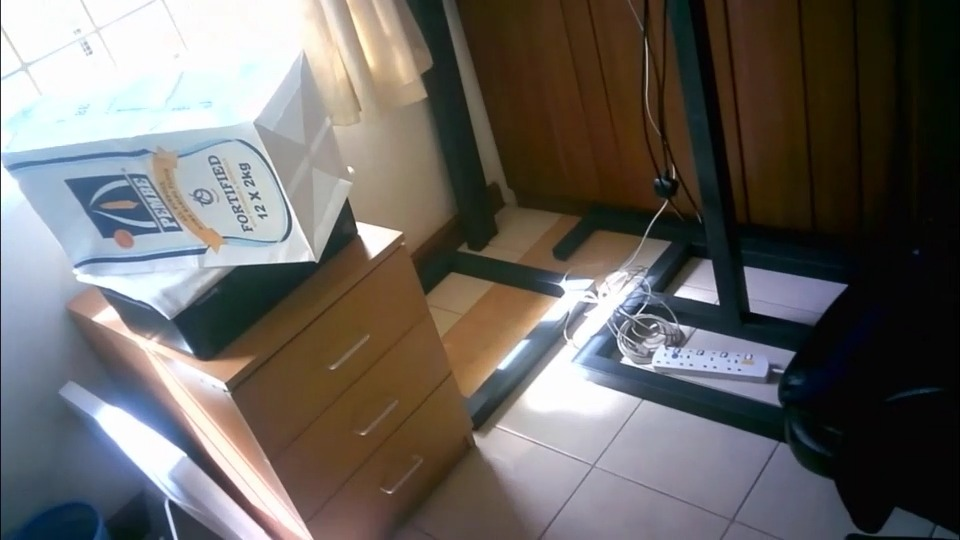wheat_flour_blue_label: (3, 50, 351, 260)
